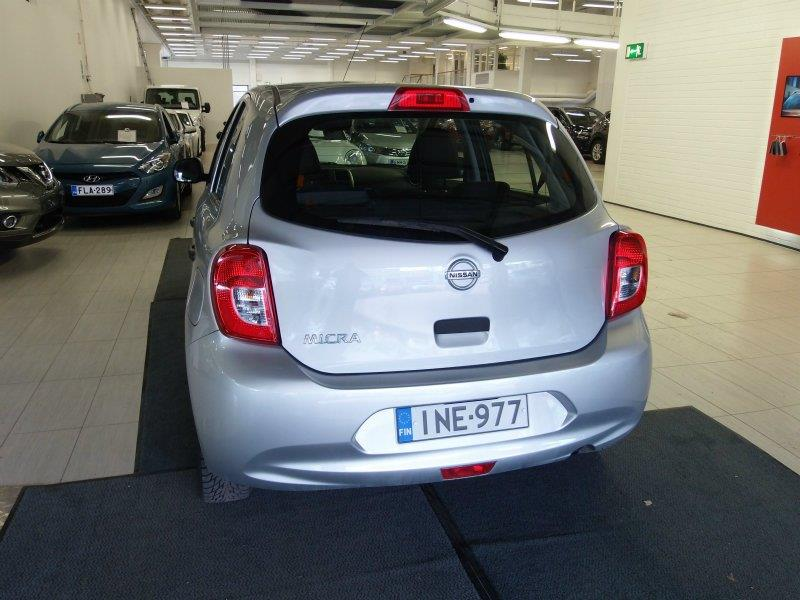license: (397, 391, 533, 447)
